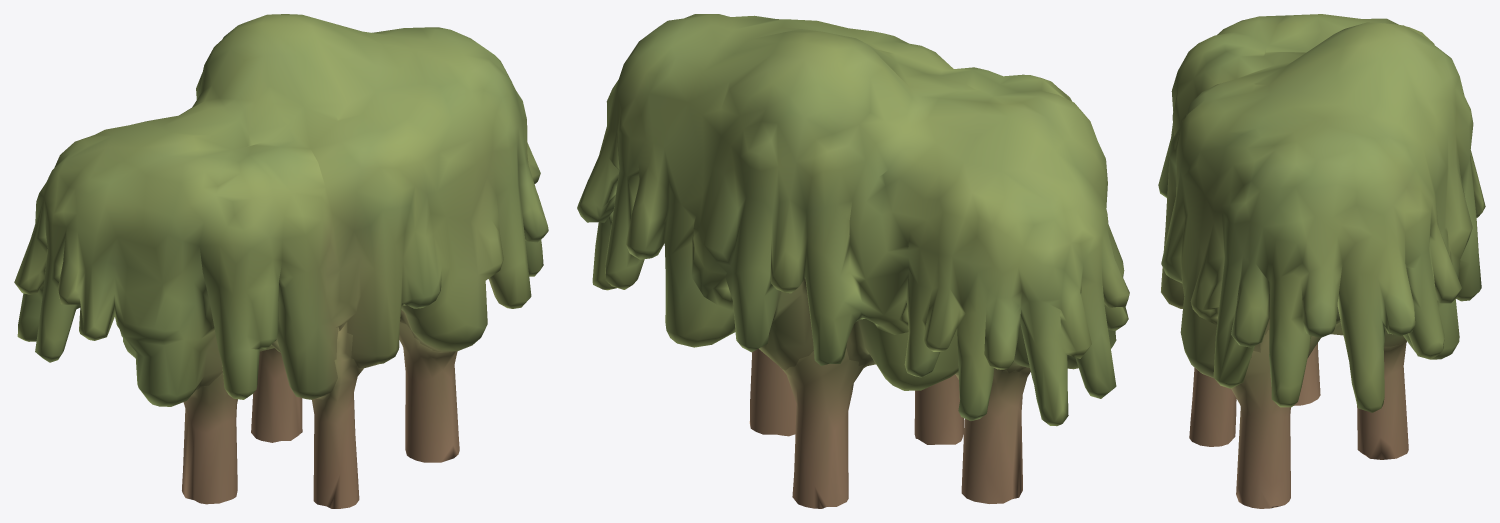
The model's file is cluster5.glb.
3 views of the same model, side by side, from view 1: azimuth 30°, elevation 25°; view 2: azimuth 150°, elevation 25°; view 3: azimuth 270°, elevation 25° (orthographic). The views are drawn at different scales.
Visible parts, largest first — view 1: body; view 2: body; view 3: body.
Part boxes in pixels (x1,y1,x2,y2): body: (14, 14, 548, 508); body: (577, 14, 1129, 508); body: (1158, 14, 1485, 508).
Bounding box in the file's own units: 9.96 × 8.12 × 5.75.
